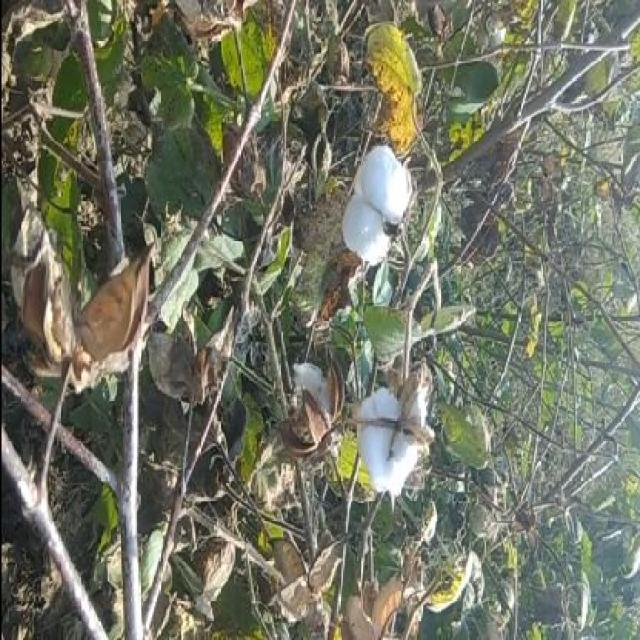cotton_ready: (334, 389, 438, 511), (345, 126, 429, 271)
